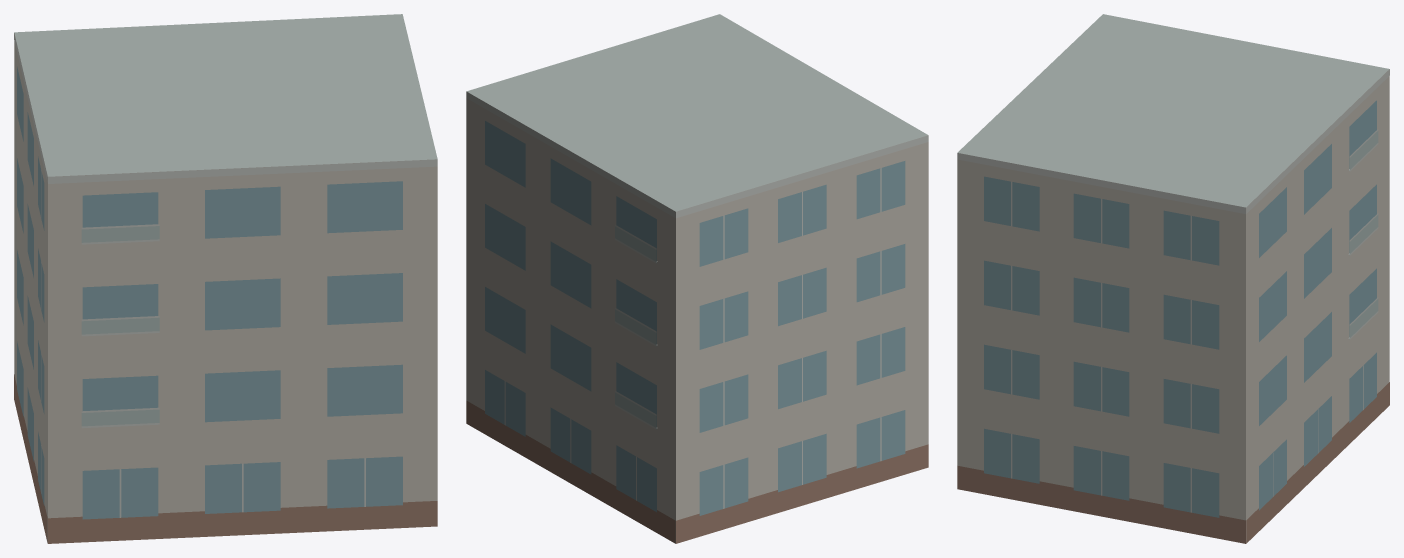
File: survey-upis-32990245.glb
3 renders of one model, left to right at view 1: azimuth 30°, elevation 25°; view 2: azimuth 150°, elevation 25°; view 3: azimuth 270°, elevation 25°, orthographic. The views are drawn at different scales.
Visible parts, largest first — view 1: survey-upis-32990245.tmp; view 2: survey-upis-32990245.tmp; view 3: survey-upis-32990245.tmp.
Part boxes in pixels (box(x1,y1,x2,y2)): survey-upis-32990245.tmp: box(14, 14, 437, 543); survey-upis-32990245.tmp: box(466, 14, 928, 543); survey-upis-32990245.tmp: box(957, 14, 1389, 543).
Bounding box in the file's own units: 15.07 × 12.2 × 14.23.
